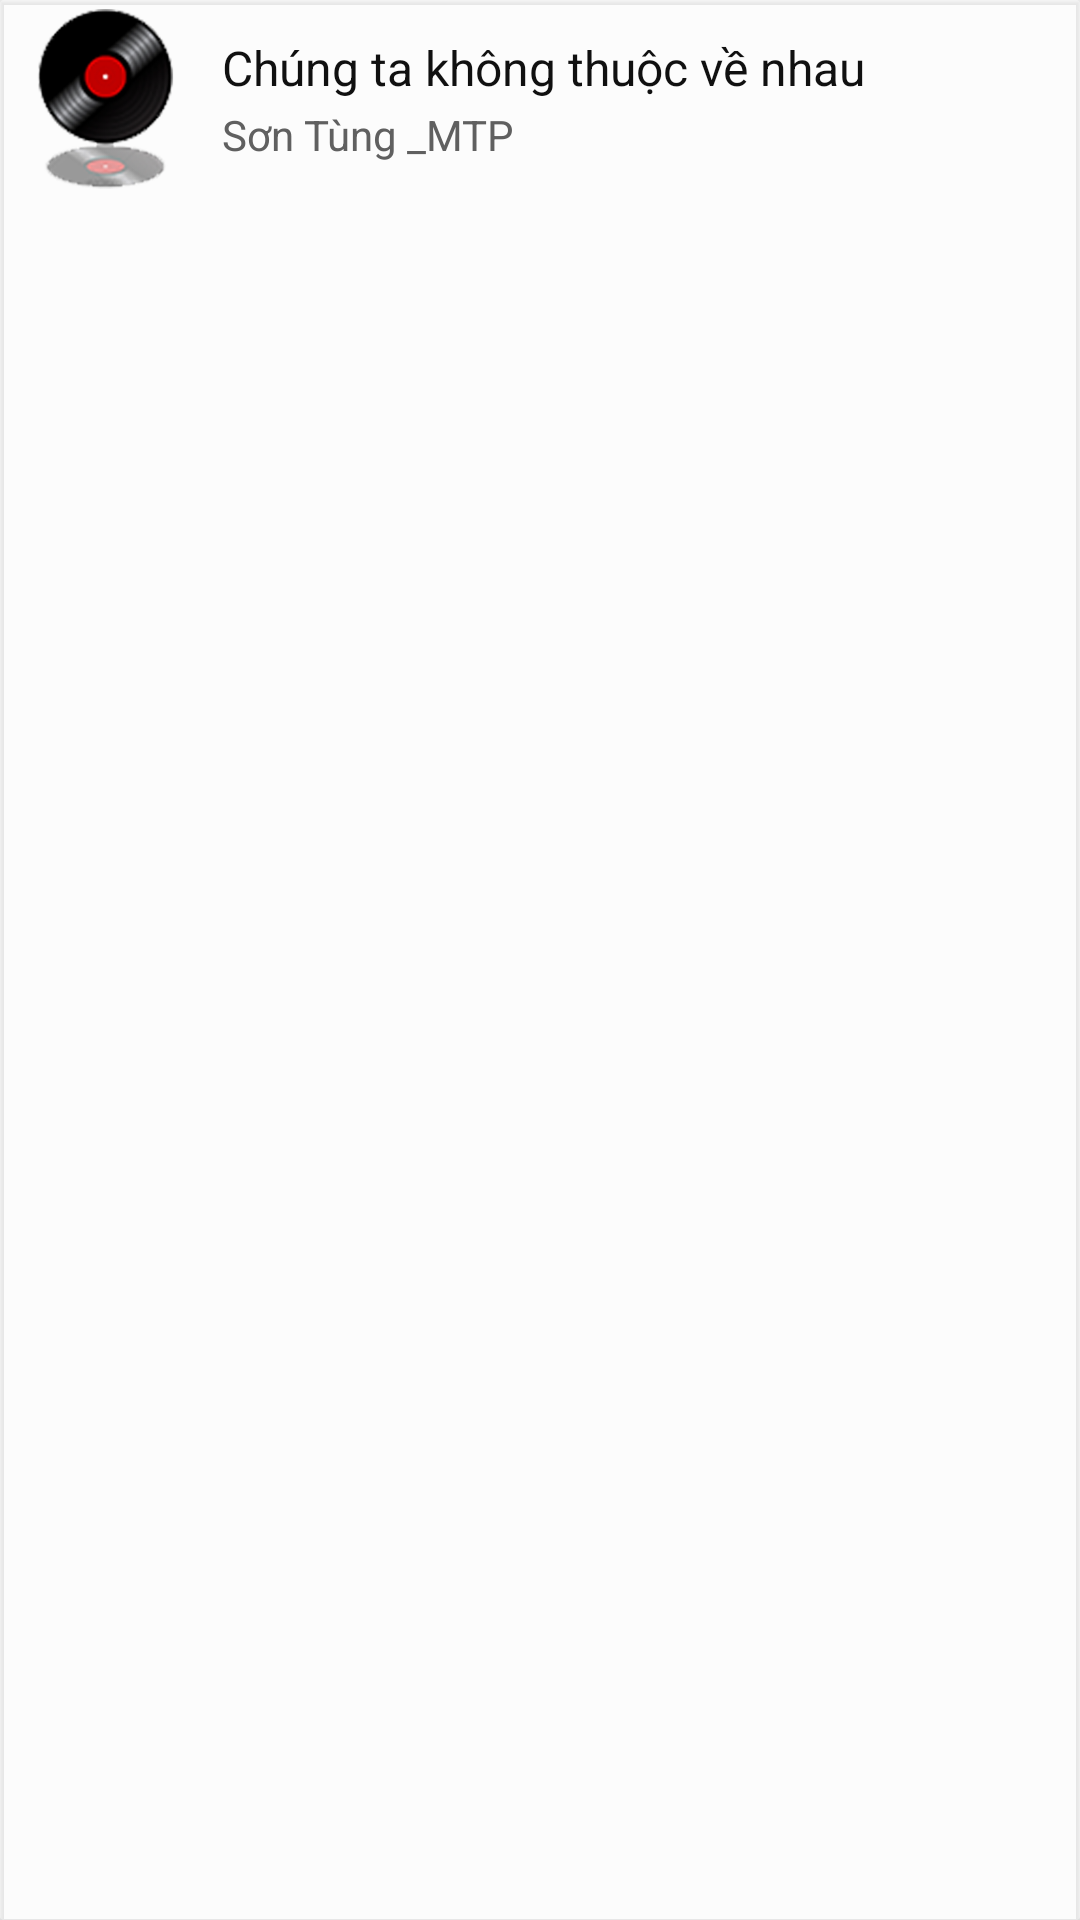

Icons on this 1080*1920 Android screen, each with its box as region(x1, y1, x2, y2):
album thumbnail: region(38, 9, 173, 188)
